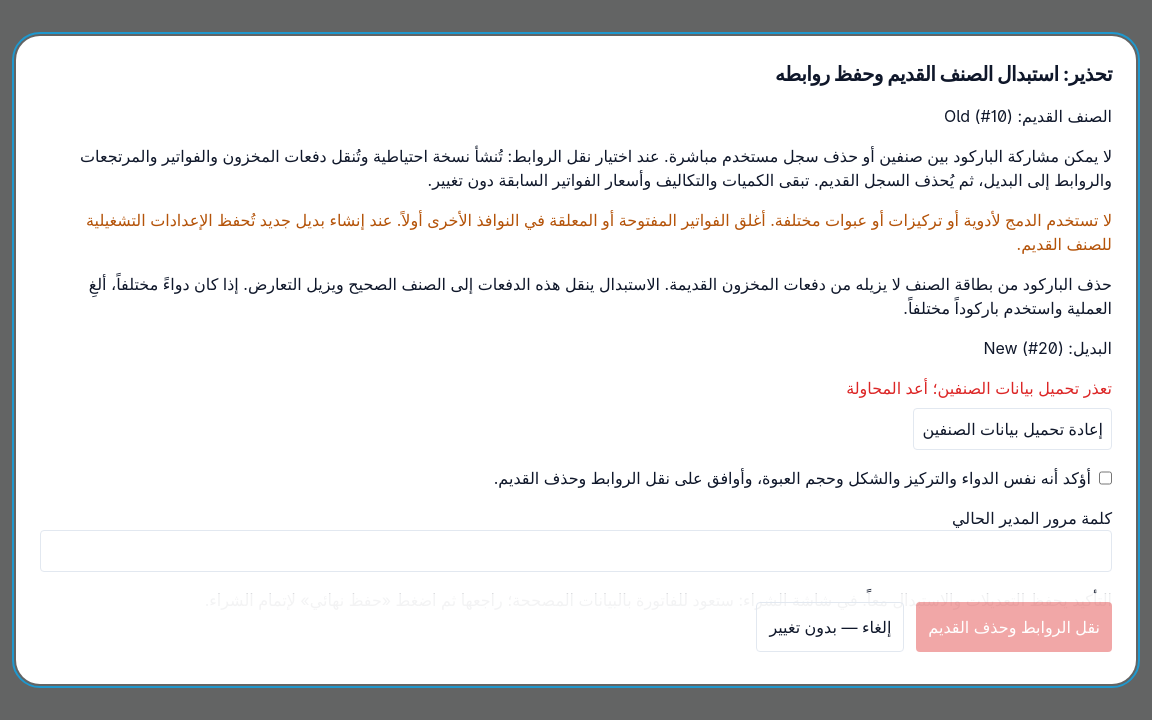
recovers a thrown full-record loader and retries without closing the replacement dialog
Expected: the message shows "تعذر تحميل", [846,378,1112,398]
Click the button "إعادة تحميل بيانات الصنفين" at point(1013, 429), box [914,408,1112,450]
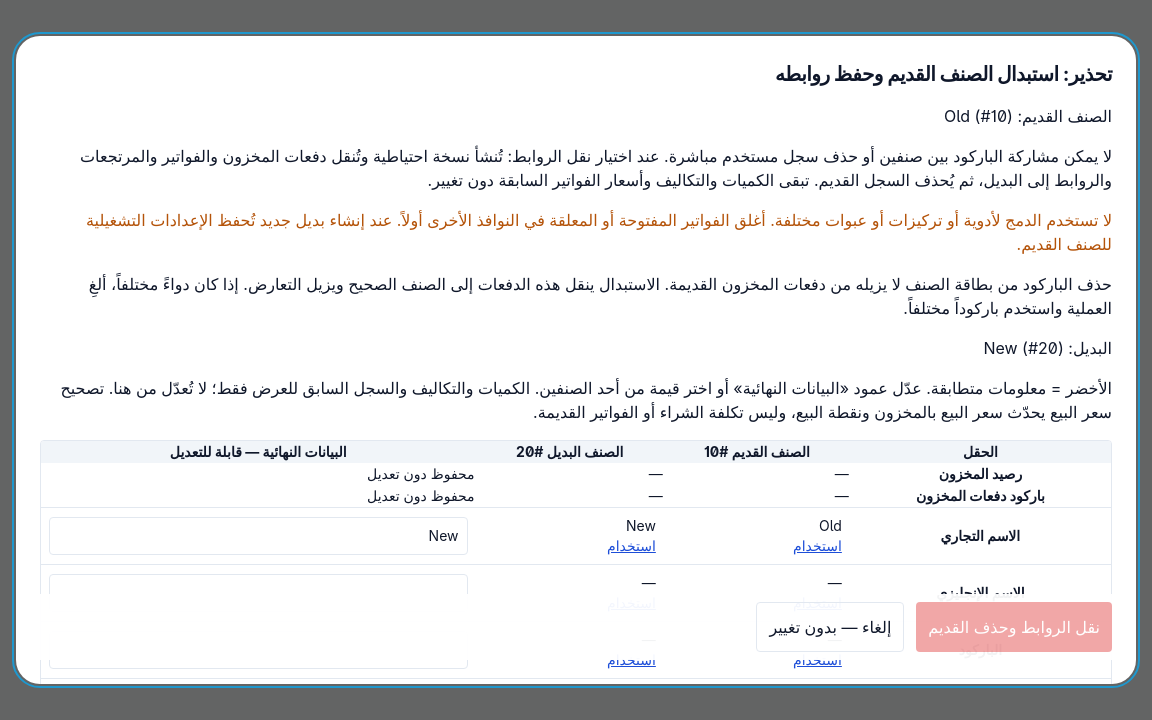
Now the field named "البيانات النهائية: الاسم التجاري" is shown, box [49,517,468,555]
